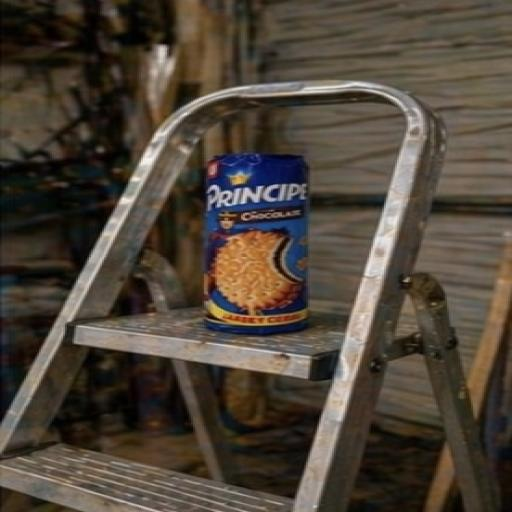prince: (65, 92, 422, 413)
